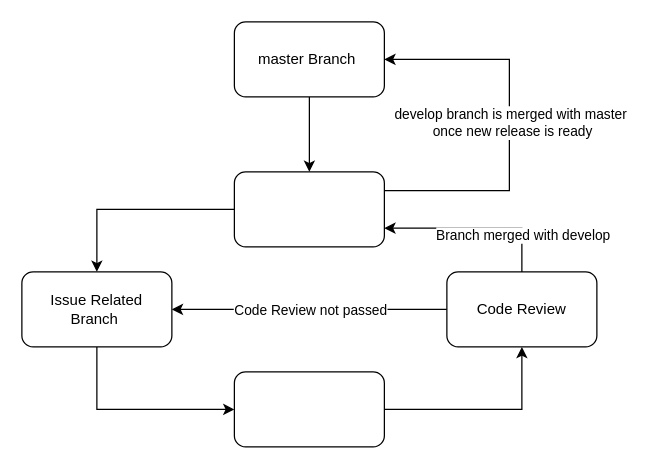
This 648x469 diagram has some shape labels left out. The box of each missing label's shape, as (x1, y1, x2, y2) in pixels:
develop Branch: (233, 171, 384, 247)
Merge Request: (233, 371, 384, 447)
